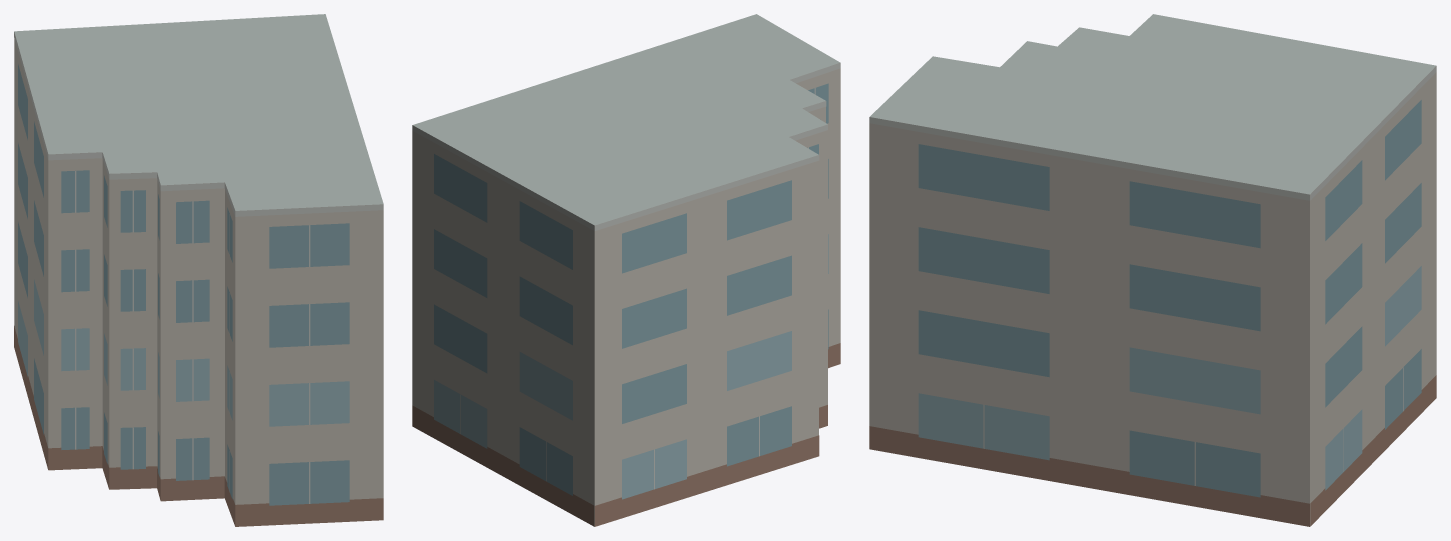
File: survey-upis-32494015.glb
The picture shows the model from 3 angles, left to right: view 1: azimuth 30°, elevation 25°; view 2: azimuth 150°, elevation 25°; view 3: azimuth 270°, elevation 25°; orthographic projection. The views are drawn at different scales.
Parts seen in each view (by area): view 1: survey-upis-32494015.tmp; view 2: survey-upis-32494015.tmp; view 3: survey-upis-32494015.tmp.
Boxes of the visible parts, left/top/right/bottom form: survey-upis-32494015.tmp: left=14, top=14, right=383, bottom=526; survey-upis-32494015.tmp: left=412, top=14, right=840, bottom=526; survey-upis-32494015.tmp: left=869, top=14, right=1436, bottom=526.
Bounding box in the file's own units: 15.1 × 12.95 × 20.05.
